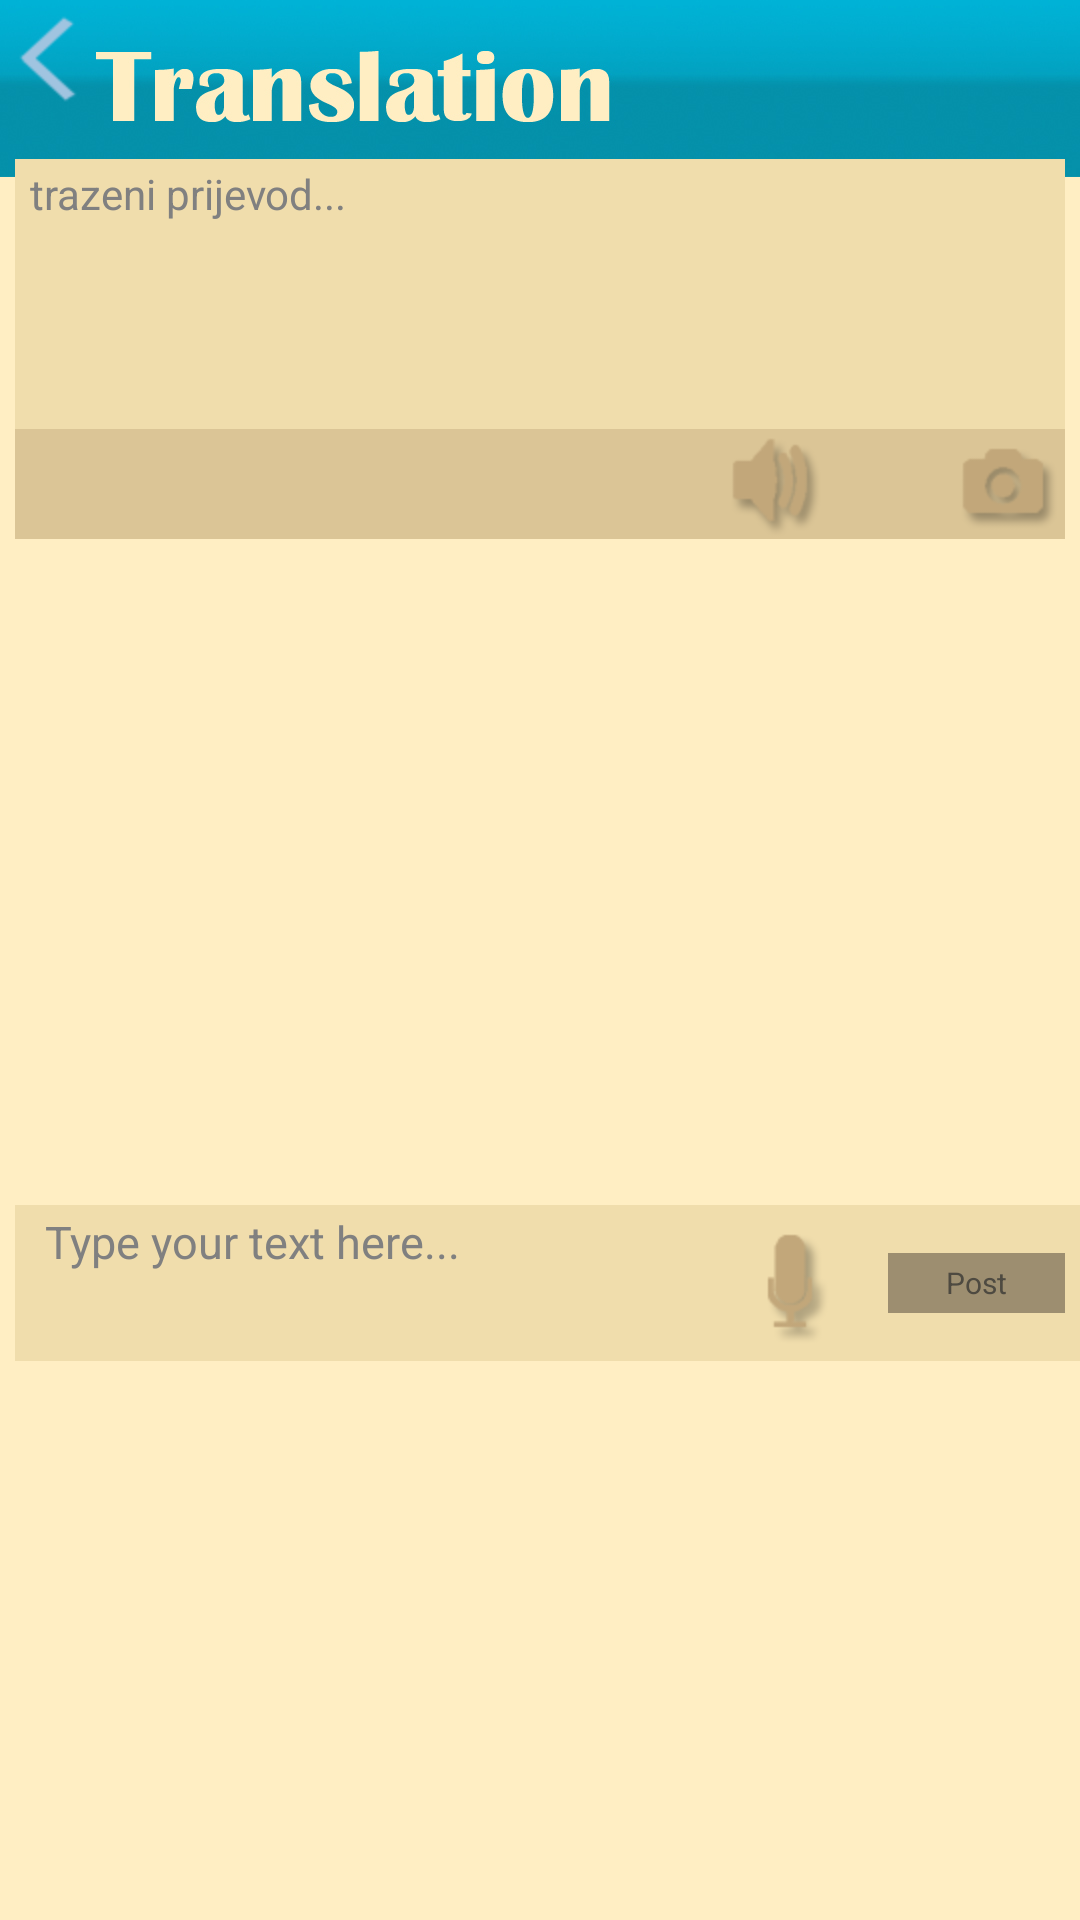

Screen size 1080px×1920px. Icon name, then its box in pixels as (x1, y1, x2, y2):
back: (0, 0, 144, 121)
cam: (964, 450, 1050, 522)
microphone: (768, 1235, 821, 1336)
sound: (734, 440, 814, 528)
